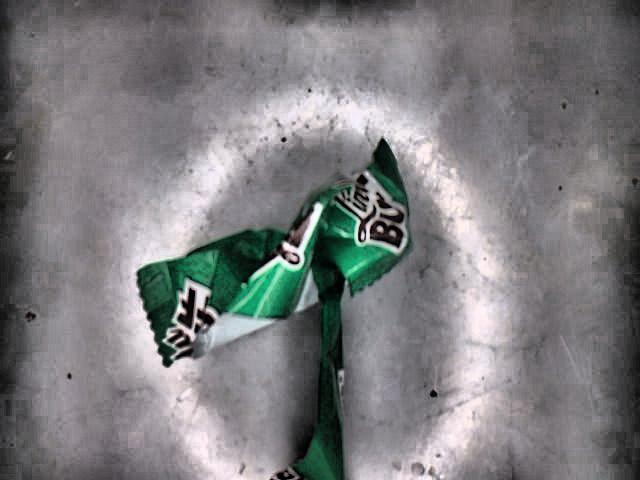Plastic: (138, 141, 415, 480)
